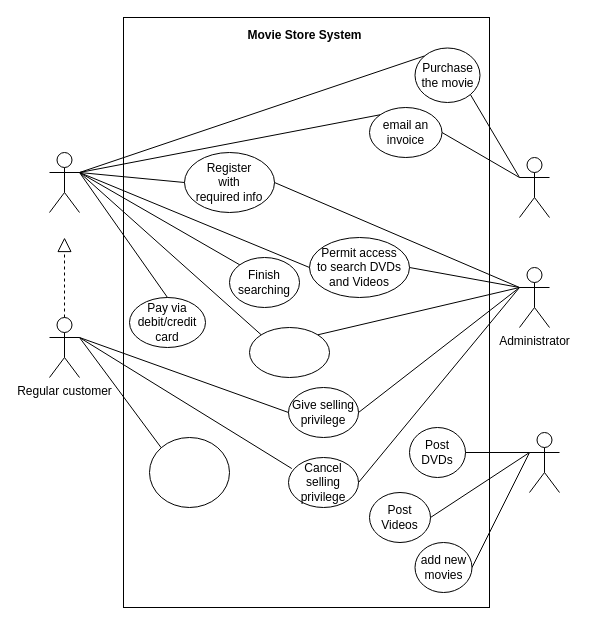
This 595x625 diagram has some shape labels left out. Each missing label, with the box of its shape:
Customer: (48, 152, 80, 212)
Remove purchased movie: (248, 326, 330, 378)
Seller: (518, 156, 550, 218)
System user: (528, 432, 560, 492)
Use different searches database: (148, 436, 230, 508)
